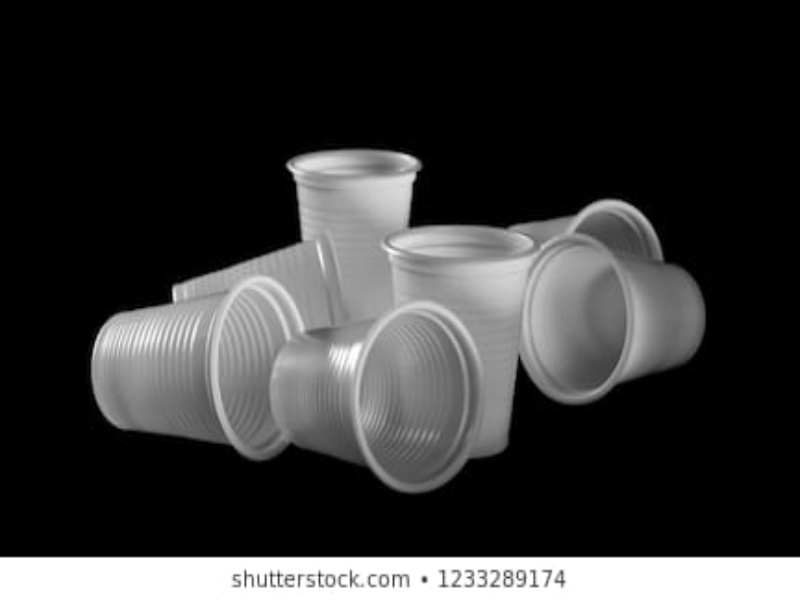plastic-cup: (267, 303, 486, 493), (91, 276, 294, 461), (383, 222, 539, 460), (524, 232, 708, 403), (287, 147, 426, 328), (168, 234, 342, 329), (505, 198, 673, 265)
